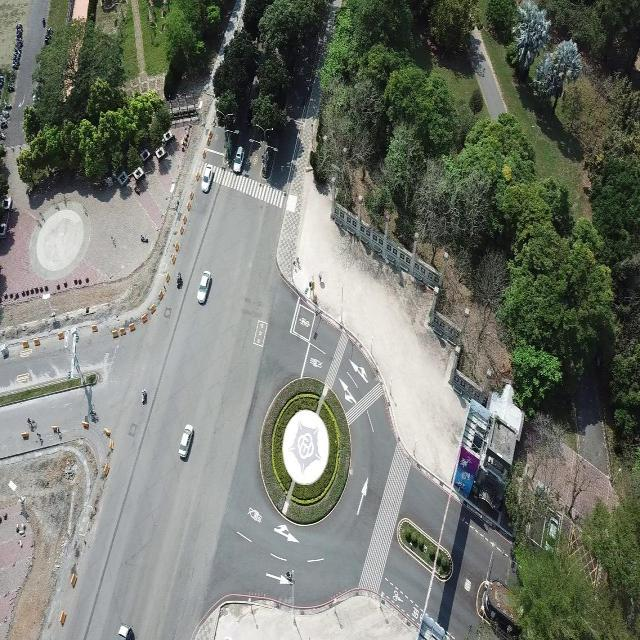car: (178, 424, 194, 459), (196, 270, 212, 304), (201, 162, 214, 193), (232, 145, 245, 173)
